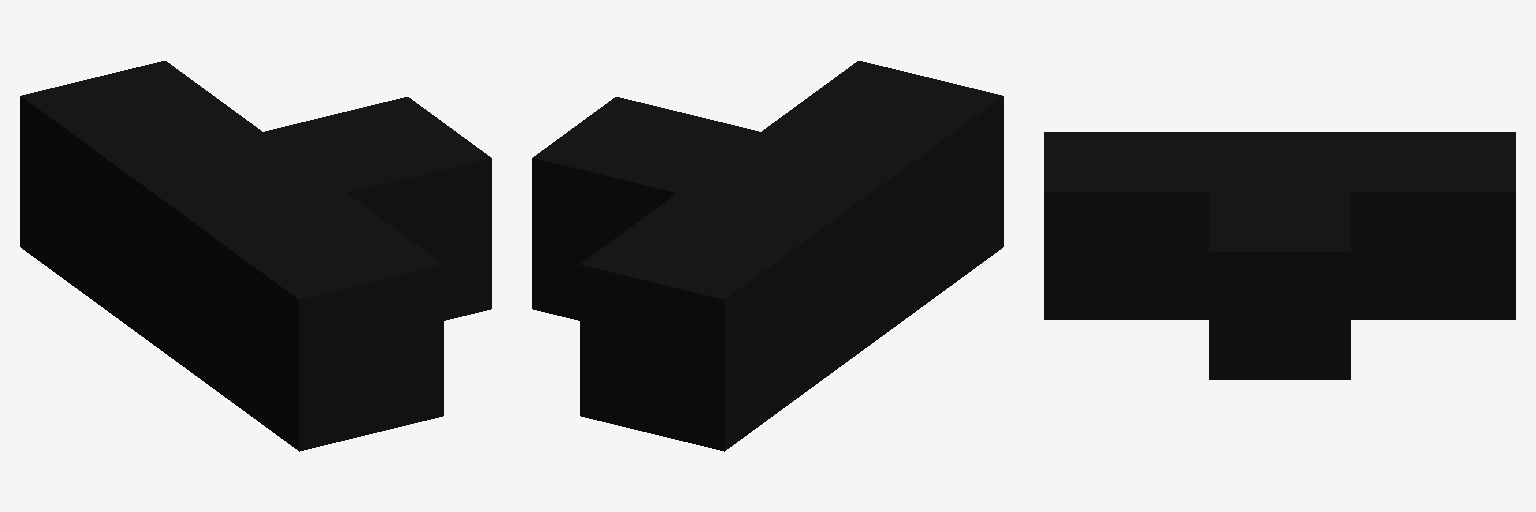
URDF robot description (block_male):
<robot name="block_male">
  <link name = "block_body">
    <visual>
      <geometry>
        <box size="0.3 1 0.3"/>
      </geometry>
      <material name="grey">
        <color rgba="0.1 0.1 0.1 1"/>
      </material>
    </visual>
    <collision>
      <geometry>
        <box size="0.3 1 0.3"/>
      </geometry>
    </collision>
    <inertial>
      <!-- <origin xyz="1 1 1" rpy="0 0 0" /> -->
      <mass value="0.25"/>
      <inertia ixx="0.4" ixy="0.0" ixz="0.0" iyy="0.4" iyz="0.0" izz="0.2"/>
    </inertial>
    <contact>
      <lateral_friction value="1.0"/>
      <rolling_friction value="0.0"/>
      <contact_cfm value="0.0"/>
      <contact_erp value="1.0"/>
    </contact>
  </link>
  <link name="block_arm">
    <visual>
      <geometry>
        <box size="0.3 0.3 0.3"/>
      </geometry>
      <origin rpy="0 0 0" xyz="0 0 0"/>
      <material name="grey">
        <color rgba="0.1 0.1 0.1 1"/>
      </material>
    </visual>
    <collision>
      <geometry>
        <box size="0.3 0.3 0.3"/>
      </geometry>
      <origin rpy="0 0 0" xyz="0 0 0"/>
    </collision>
    <inertial>
      <mass value="0.25"/>
      <inertia ixx="0.4" ixy="0.0" ixz="0.0" iyy="0.4" iyz="0.0" izz="0.2"/>
    </inertial>
    <contact>
      <lateral_friction value="1.0"/>
      <rolling_friction value="0.0"/>
      <contact_cfm value="0.0"/>
      <contact_erp value="1.0"/>
    </contact>
  </link>

  <joint name="body_arm" type="fixed">
    <parent link="block_body"/>
    <child link="block_arm"/>
    <origin xyz="0.3 0 0"/>
  </joint>
</robot>

--- What the picture shows (computed from the rendered views, not written in the file) ---
The picture shows the robot from 3 angles, left to right: view 1: azimuth 30°, elevation 25°; view 2: azimuth 150°, elevation 25°; view 3: azimuth 270°, elevation 25°; orthographic projection.
Robot: block_male — 2 links, 1 joints (1 fixed); root link block_body; default pose: all joints at 0.
Visible links, largest first — view 1: block_body, block_arm; view 2: block_body, block_arm; view 3: block_body, block_arm.
Boxes of the visible links, box(x1,y1,x2,y2) form: block_body: box(20, 61, 443, 451); block_arm: box(264, 97, 491, 320); block_body: box(580, 61, 1003, 451); block_arm: box(532, 97, 759, 320); block_body: box(1044, 132, 1515, 319); block_arm: box(1209, 192, 1350, 379).
Bounding box of the posed robot: 0.6 × 1 × 0.3 m (x, y, z).
Geometry: primitives only (box / cylinder / sphere), no mesh files.